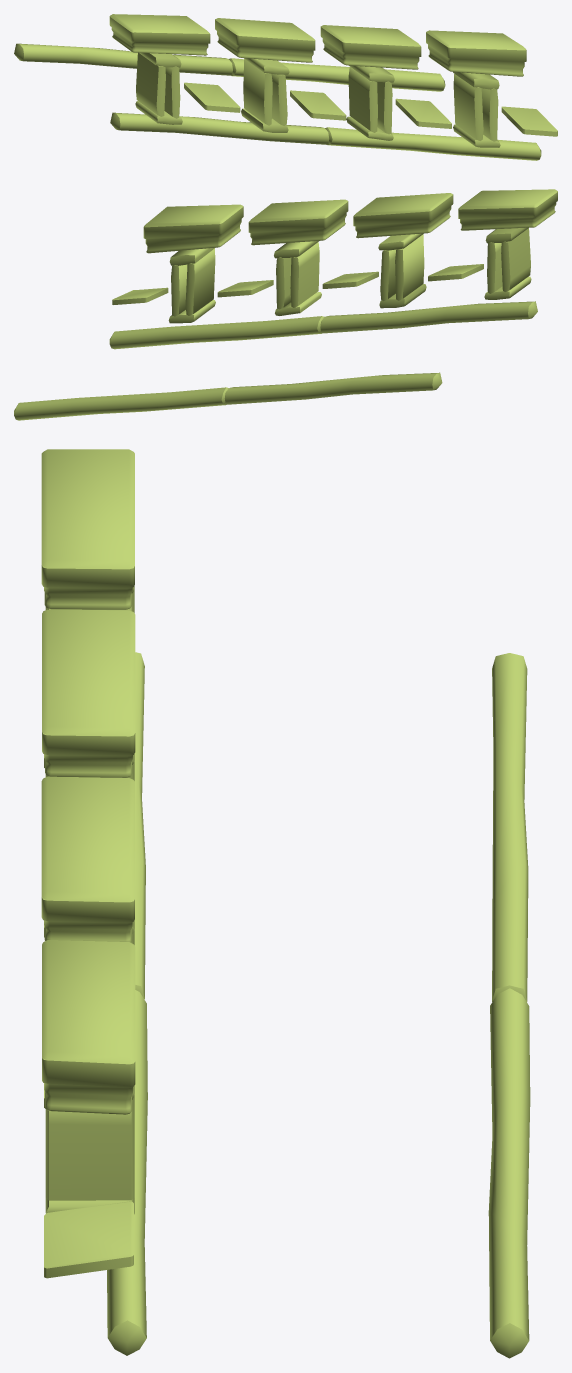
Rendered from wall_outer_10m_down_deco.fbx.
3 renders of one model, top to bottom at view 1: azimuth 30°, elevation 25°; view 2: azimuth 150°, elevation 25°; view 3: azimuth 270°, elevation 25°, orthographic. The views are drawn at different scales.
Parts seen in each view (by area): view 1: Cube.098; view 2: Cube.098; view 3: Cube.098.
Boxes of the visible parts, x1,y1,x2,y2 form: Cube.098: (14,14,557,160); Cube.098: (14,189,557,420); Cube.098: (41,449,530,1358).
Size of the model in its own units: 10.18 by 5.66 by 5.03.
